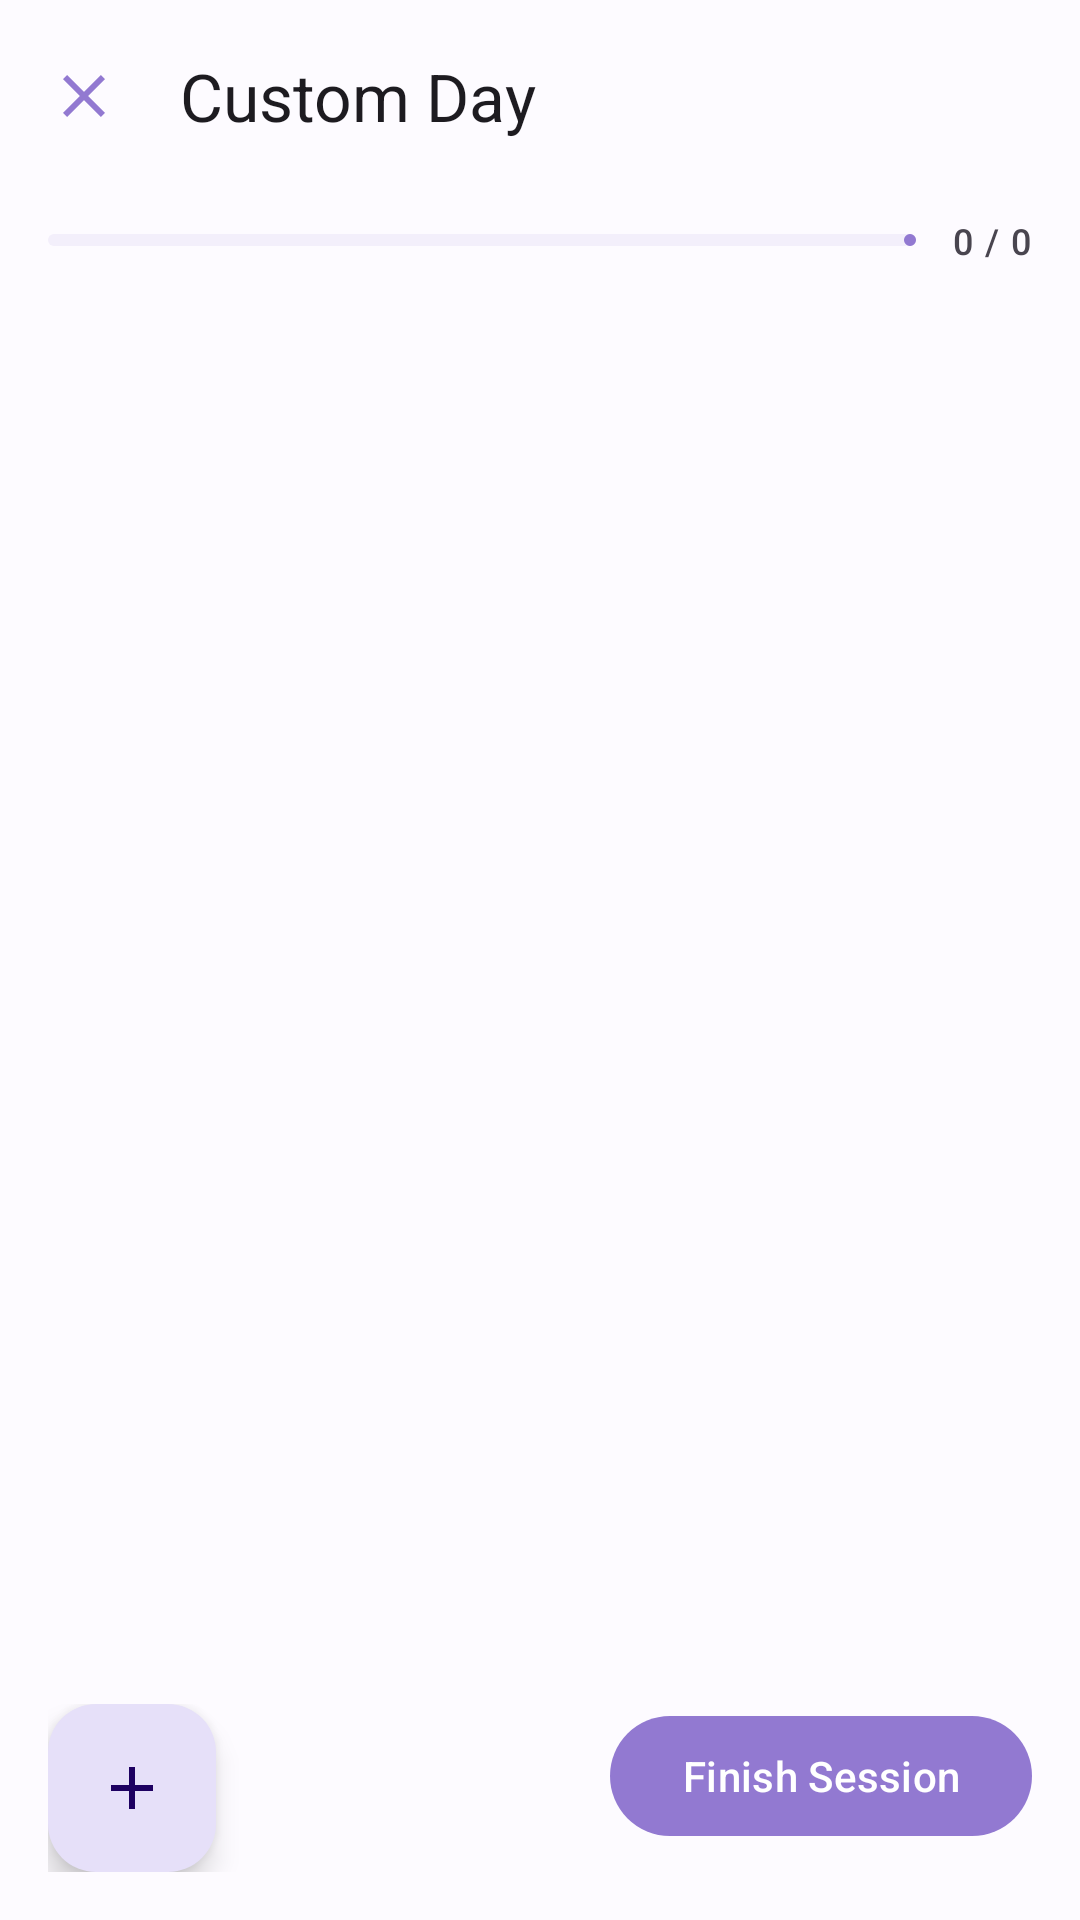

Screen size 1080px×1920px. Icon name, then its center in pixels as [x,y]:
Add exercise: [132,1788]
